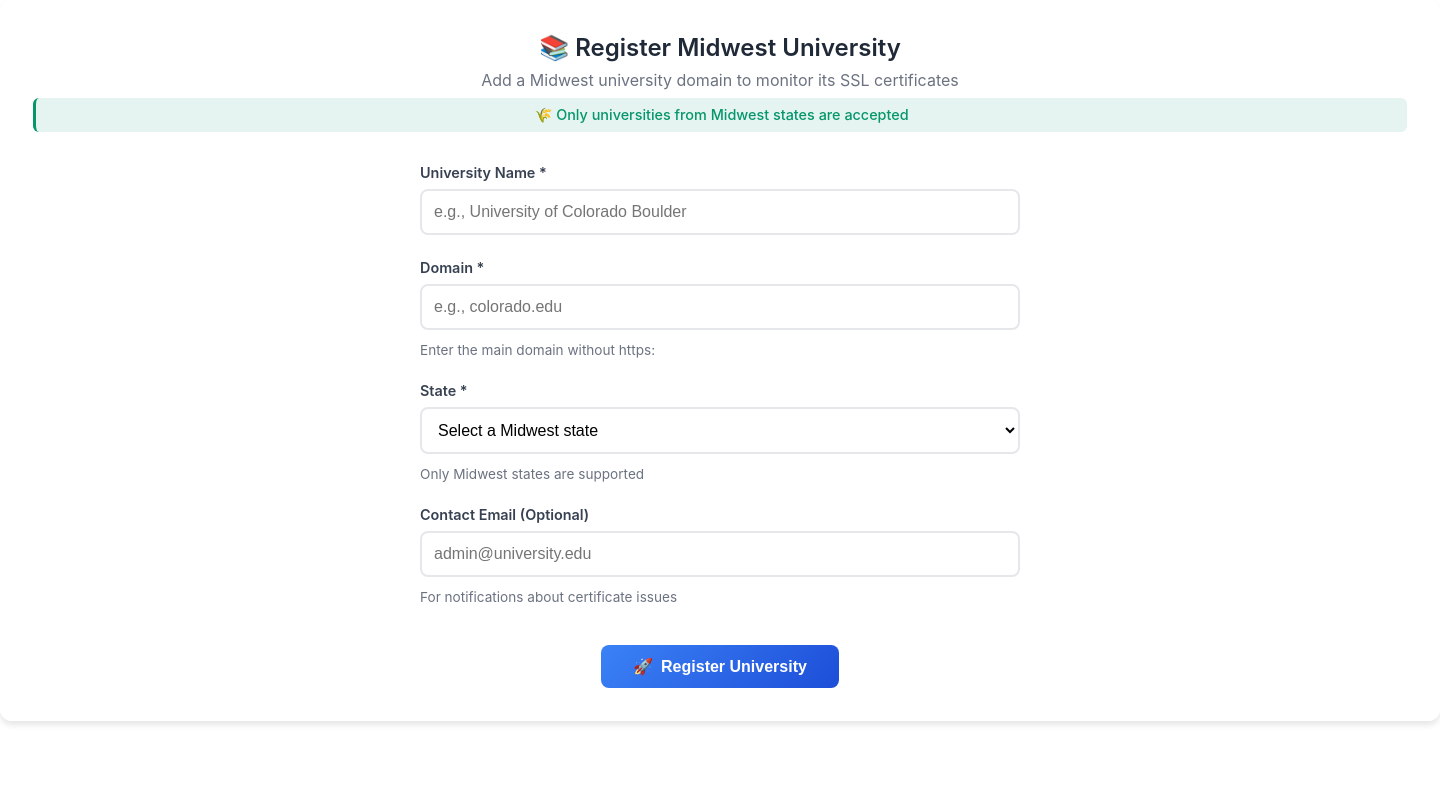
UniversityRegistration Component › handles successful registration
This screenshot has width=1440, height=810.
Type "Test University" into the field labelled "University Name *" at (720, 212), box [420,189,1020,235]
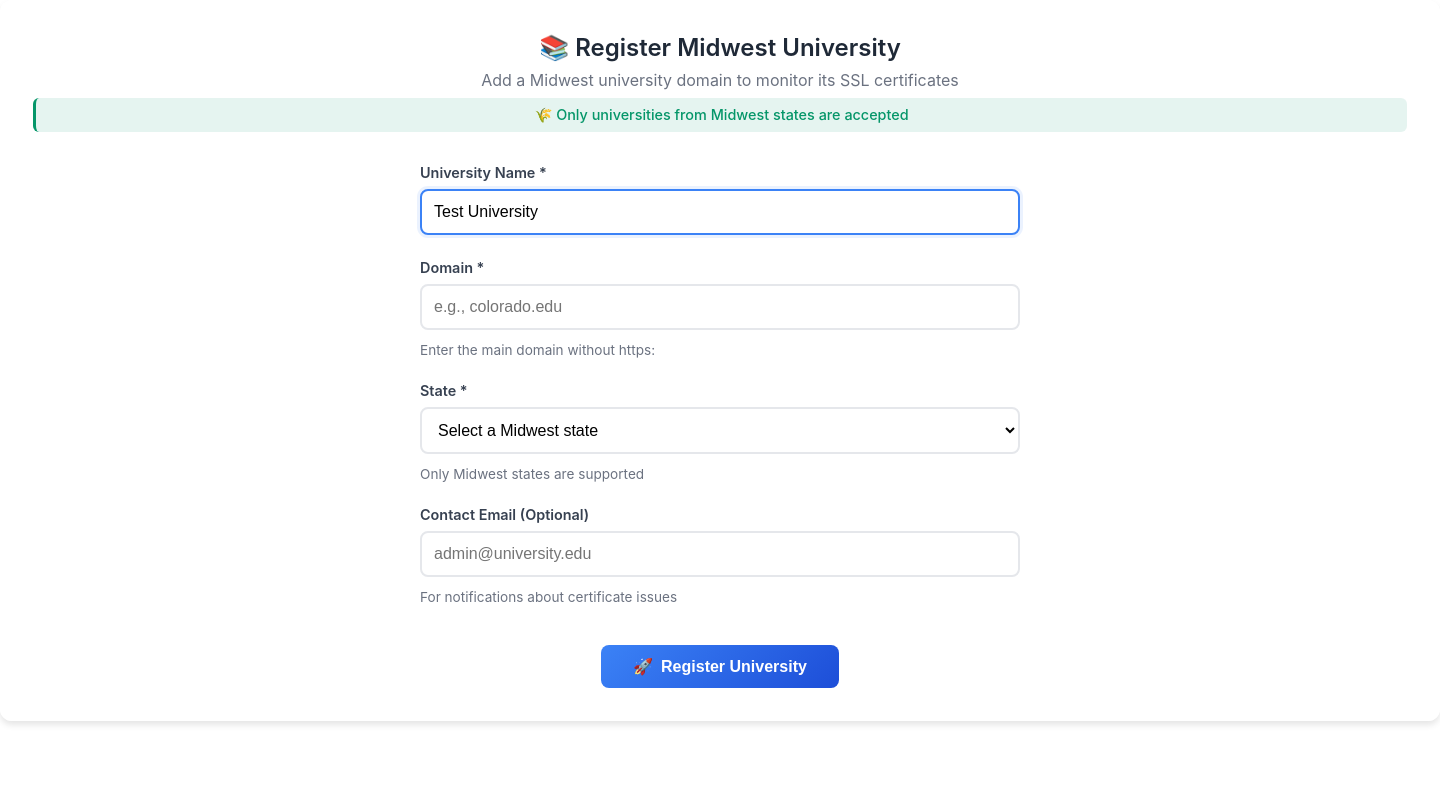
Type "test.edu" into the field labelled "Domain *" at (720, 307), box [420,284,1020,330]
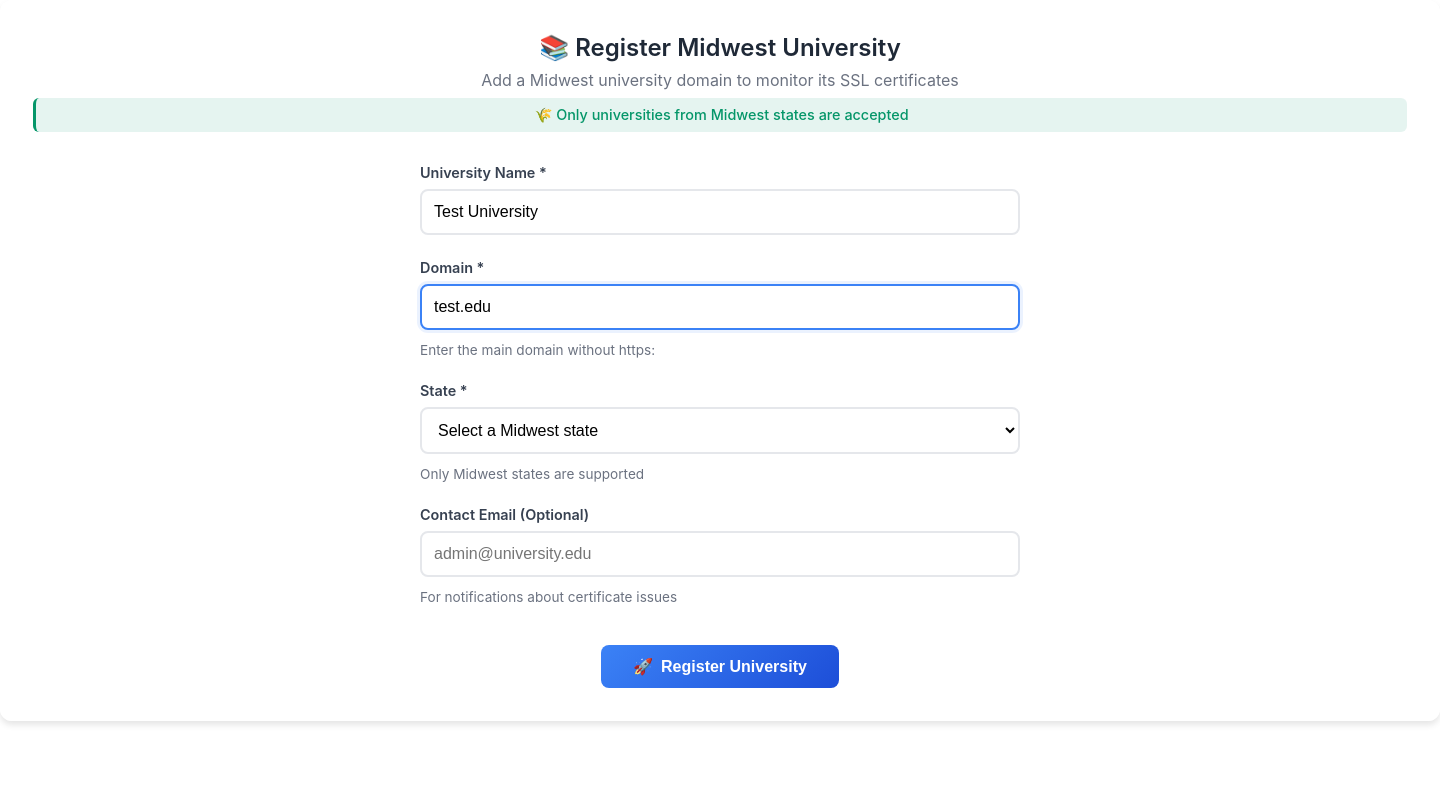
Select "Illinois" in the dropdown labelled "State *" at (720, 430), box [420,407,1020,454]
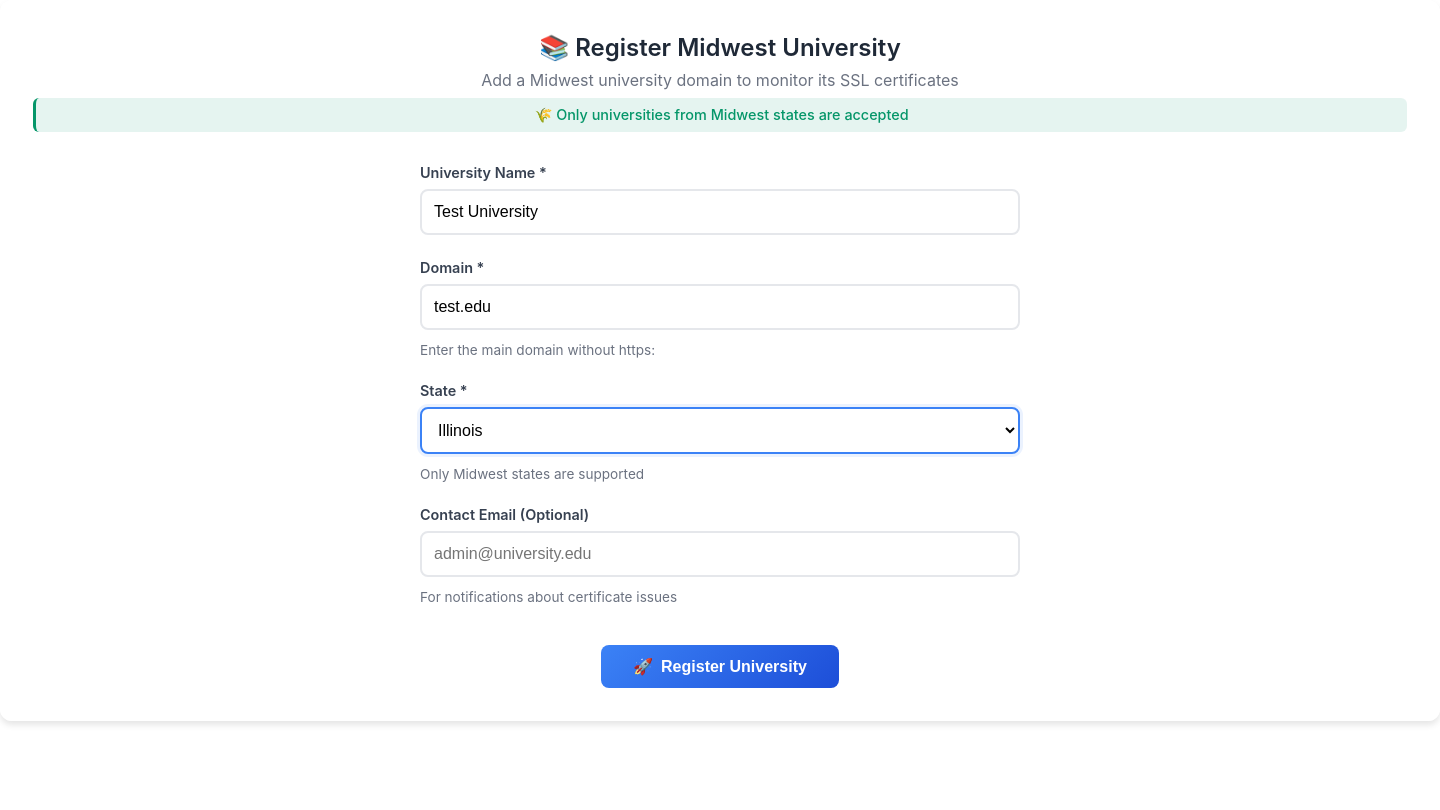
Type "admin@test.edu" into the field labelled "Contact Email (Optional)" at (720, 554), box [420,531,1020,577]
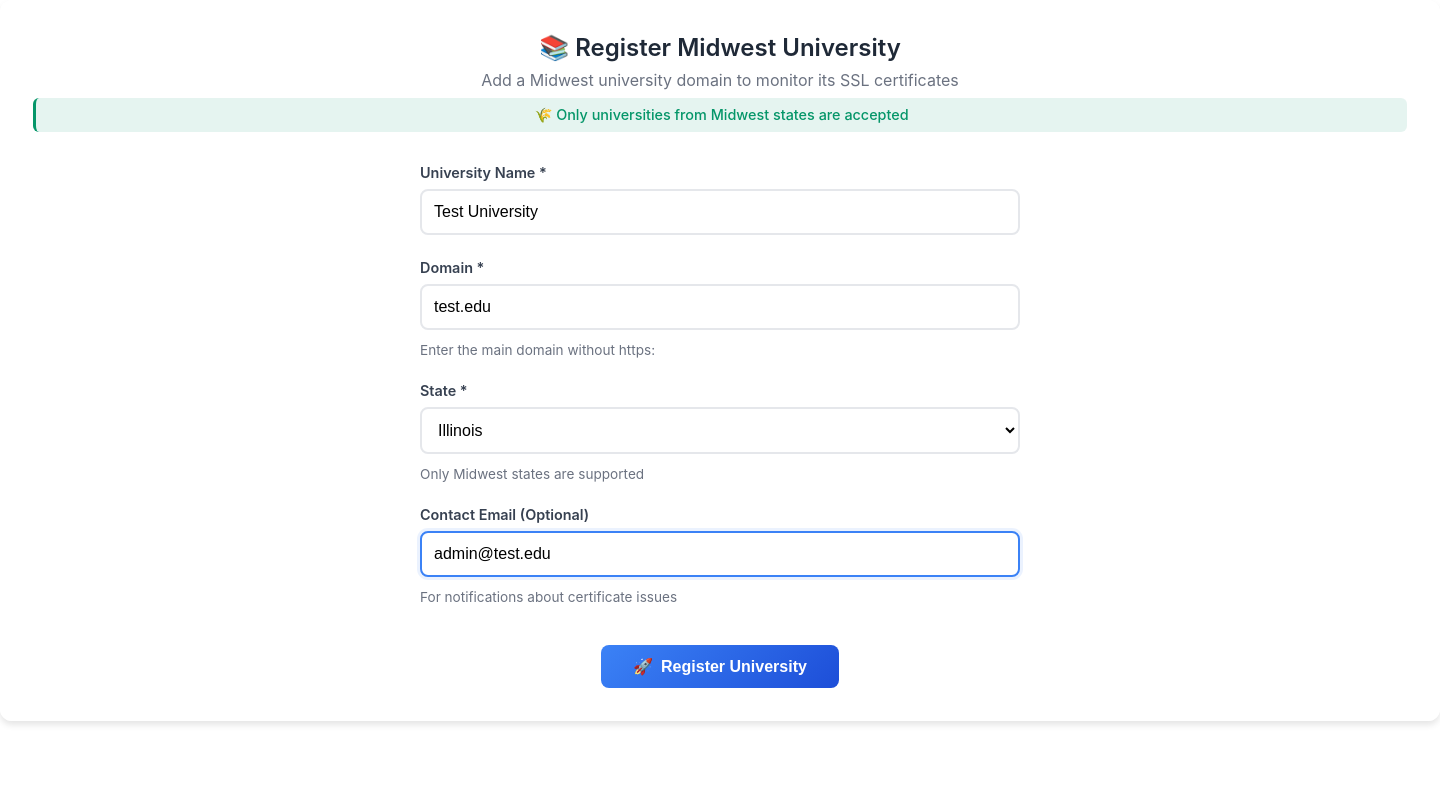
Click the button "🚀 Register University" at (720, 666), box [601,645,839,688]
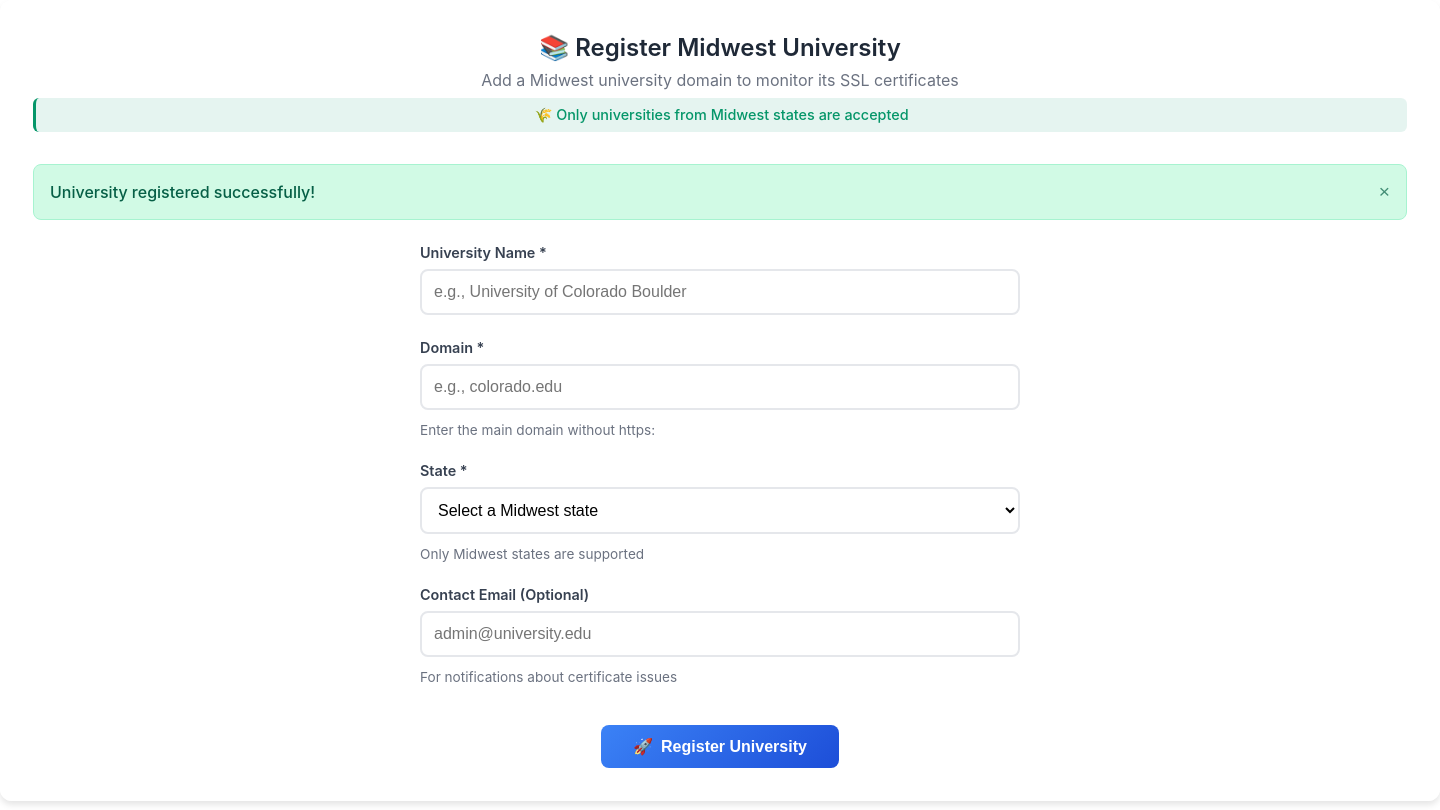
Expected: the text "University registered successfully!" is shown, [50,182,315,202]
Expected: the field labelled "University Name *" is empty, [420,269,1020,315]
Expected: the field labelled "Domain *" is empty, [420,364,1020,410]
